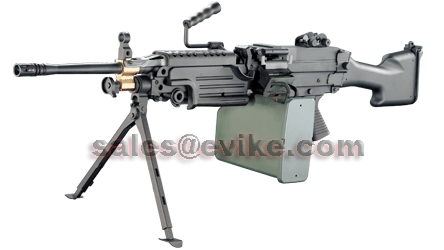rifle: (9, 5, 437, 233)
